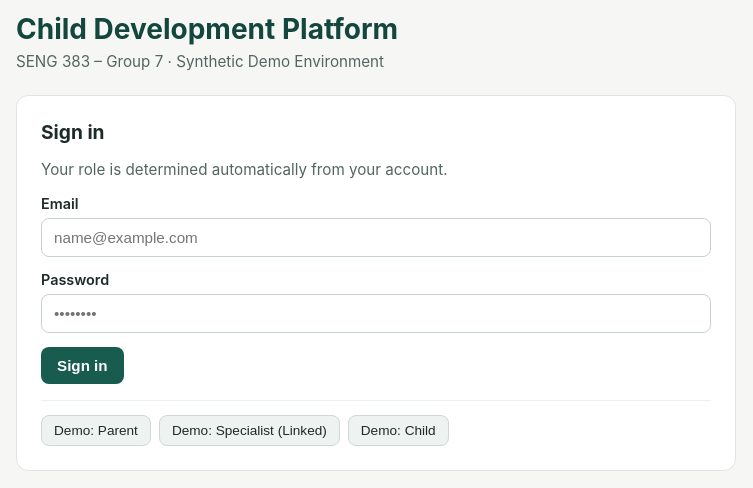
Scenario: Walking skeleton login and role screens › shows the account role screen for Specialist (Linked) and clears it on logout
The width and height of the screenshot is (753, 488).
Click the button "Demo: Specialist (Linked)" at (249, 430), box 159,415 -> 340,446
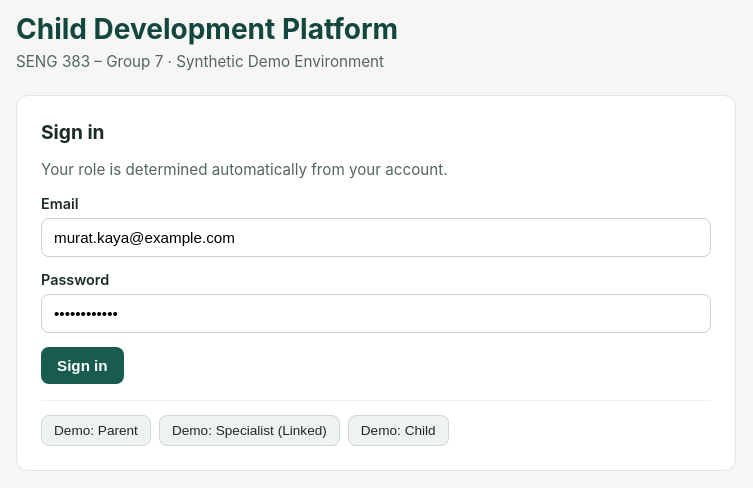
Click the button "Sign in" at (82, 365), box 41,347 -> 124,384
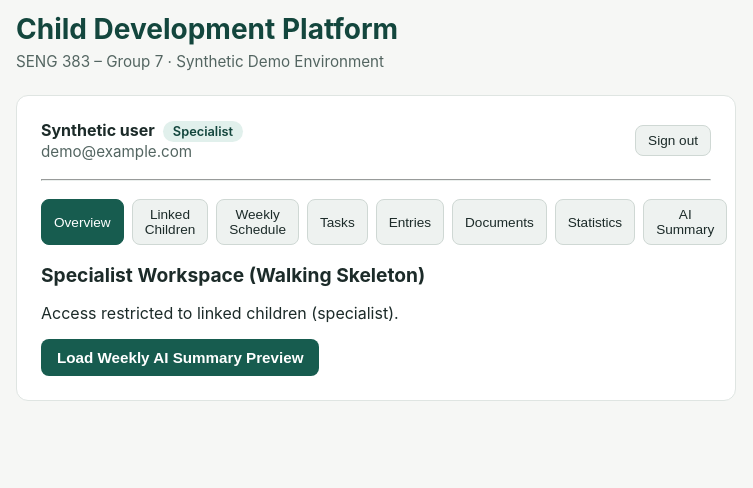
Expected: the heading "Specialist Workspace (Walking Skeleton)" is shown, 41,263 -> 425,287
Click the button "Sign out" at (673, 140), box 635,125 -> 711,156
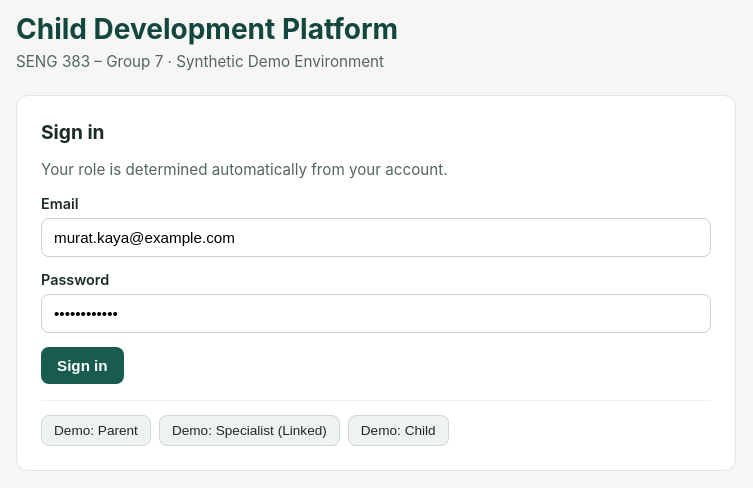
Expected: the heading "Sign in" is shown, 41,120 -> 104,144
Expected: the heading "Specialist Workspace (Walking Skeleton)" is gone
